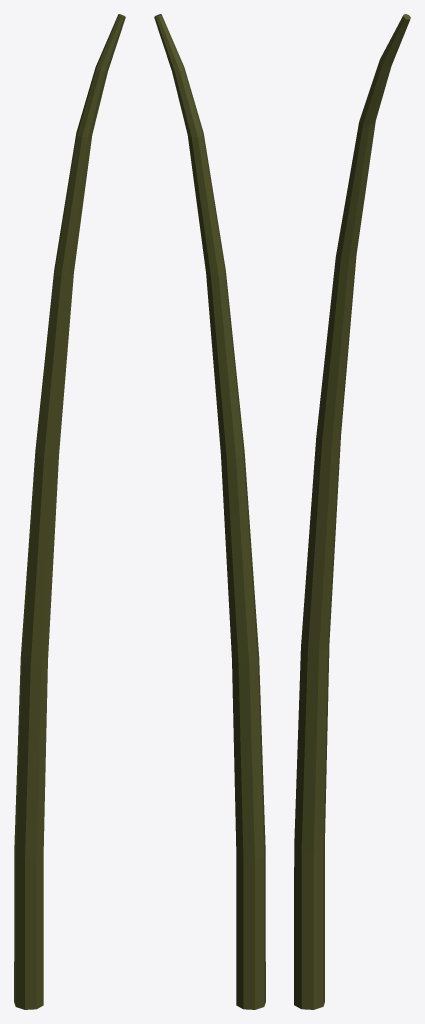
Rendered from jamionki1.fbx.
3 views of the same model, side by side, from view 1: azimuth 30°, elevation 25°; view 2: azimuth 150°, elevation 25°; view 3: azimuth 330°, elevation 25° (orthographic). The views are drawn at different scales.
Parts seen in each view (by area): view 1: Cube; view 2: Cube; view 3: Cube.
Boxes of the visible parts, x1,y1,x2,y2 form: Cube: [14, 14, 125, 1009]; Cube: [154, 14, 265, 1009]; Cube: [294, 14, 410, 1009].
Bounding box in the file's own units: 8.25 × 2 × 69.44.
